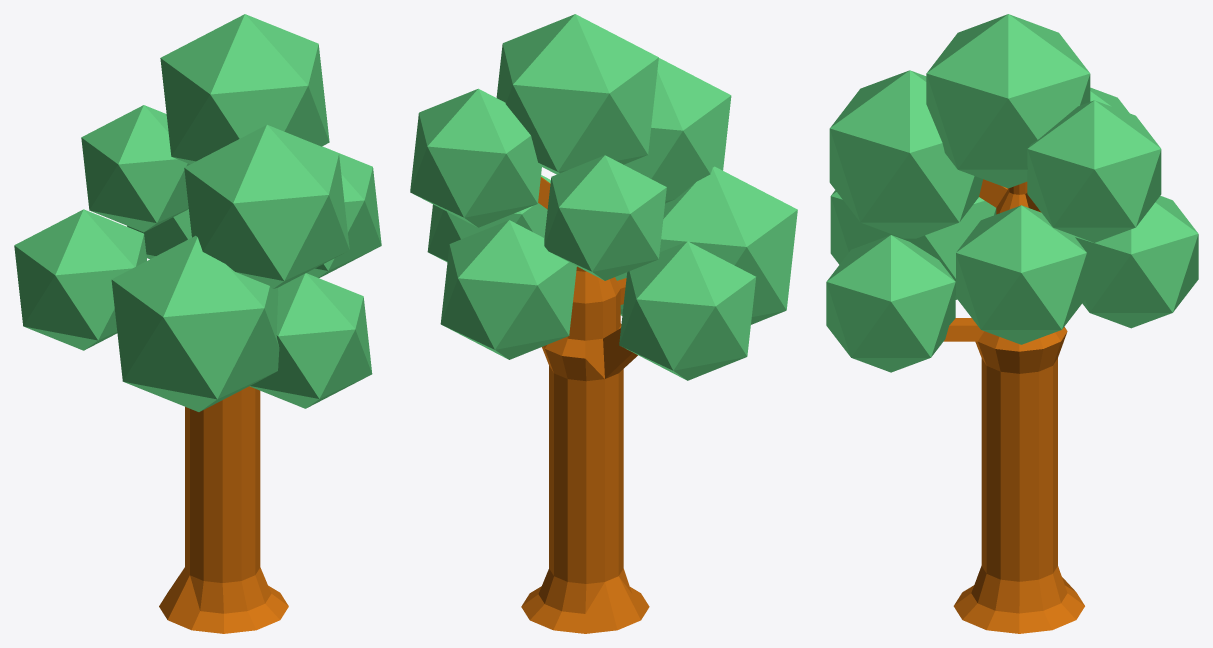
File: Tree.fbx
The picture shows the model from 3 angles, left to right: view 1: azimuth 30°, elevation 25°; view 2: azimuth 150°, elevation 25°; view 3: azimuth 270°, elevation 25°; orthographic projection. The views are drawn at different scales.
Visible parts, largest first — view 1: Tree; view 2: Tree; view 3: Tree.
Part boxes in pixels (box(x1,y1,x2,y2)): Tree: box(14, 14, 381, 633); Tree: box(410, 14, 797, 633); Tree: box(826, 14, 1198, 633).
Size of the model in its own units: 386 by 403 by 687.
